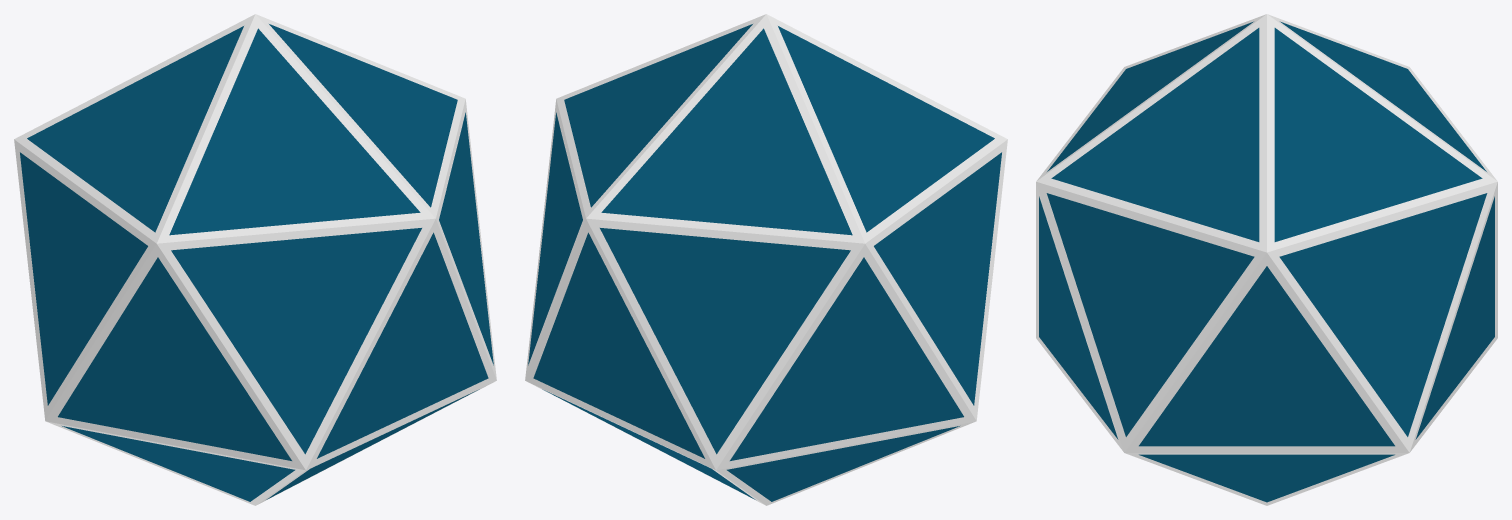
The model's file is materialC.glb.
3 views of the same model, side by side, from view 1: azimuth 30°, elevation 25°; view 2: azimuth 150°, elevation 25°; view 3: azimuth 270°, elevation 25° (orthographic).
Visible parts, largest first — view 1: rock3; view 2: rock3; view 3: rock3.
Boxes of the visible parts, box(x1,y1,x2,y2) form: rock3: box(14, 14, 496, 505); rock3: box(525, 14, 1007, 505); rock3: box(1036, 14, 1497, 505).
Size of the model in its own units: 1.07 by 1.2 by 1.02.
1 material, 1 textured.
